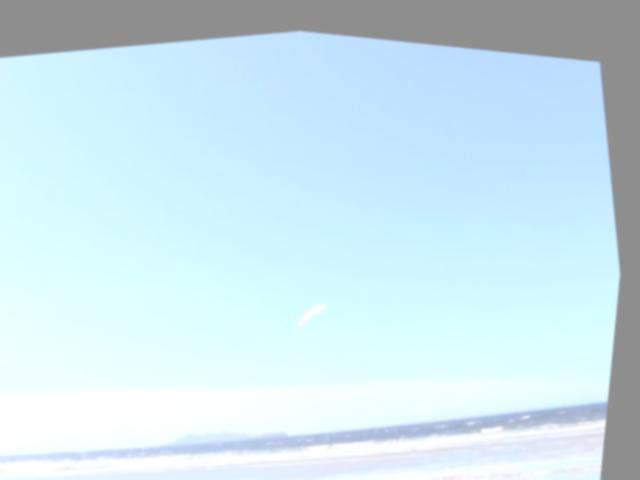flying wing: (297, 291, 336, 322)
